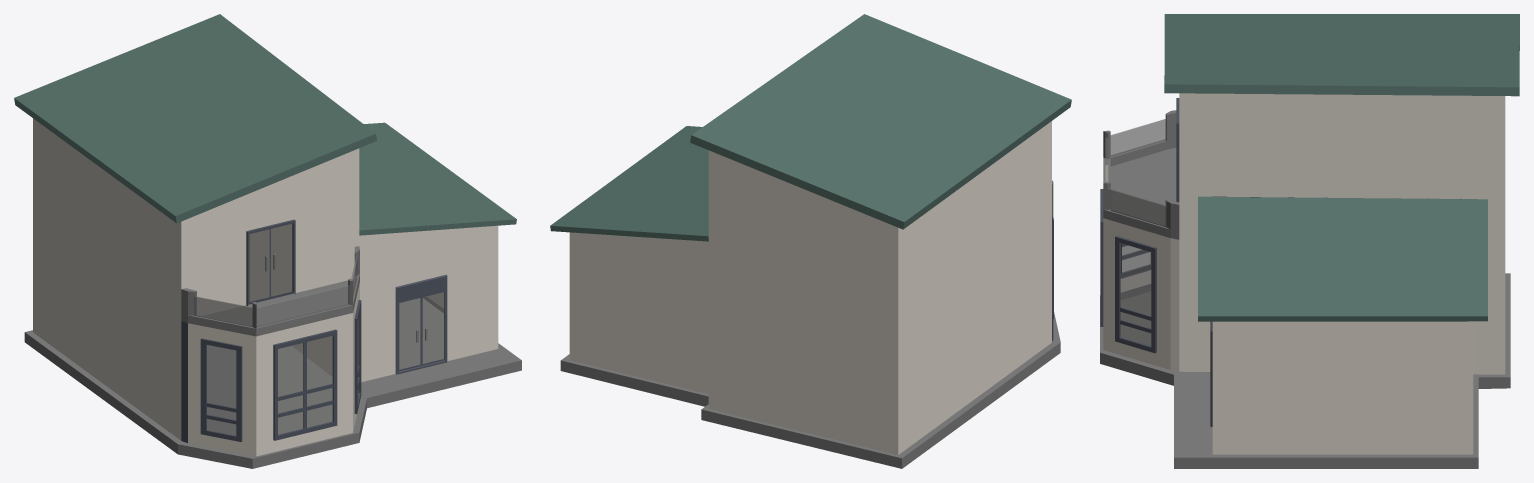
The model's file is residential3.fbx.
3 renders of one model, left to right at view 1: azimuth 30°, elevation 25°; view 2: azimuth 150°, elevation 25°; view 3: azimuth 270°, elevation 25°, orthographic. The views are drawn at different scales.
Visible parts, largest first — view 1: Cube; view 2: Cube; view 3: Cube.
Boxes of the visible parts, left/top/right/bottom form: Cube: left=14, top=14, right=521, bottom=468; Cube: left=550, top=14, right=1071, bottom=468; Cube: left=1100, top=14, right=1519, bottom=468.
Size of the model in its own units: 1555 by 1155 by 1442.
